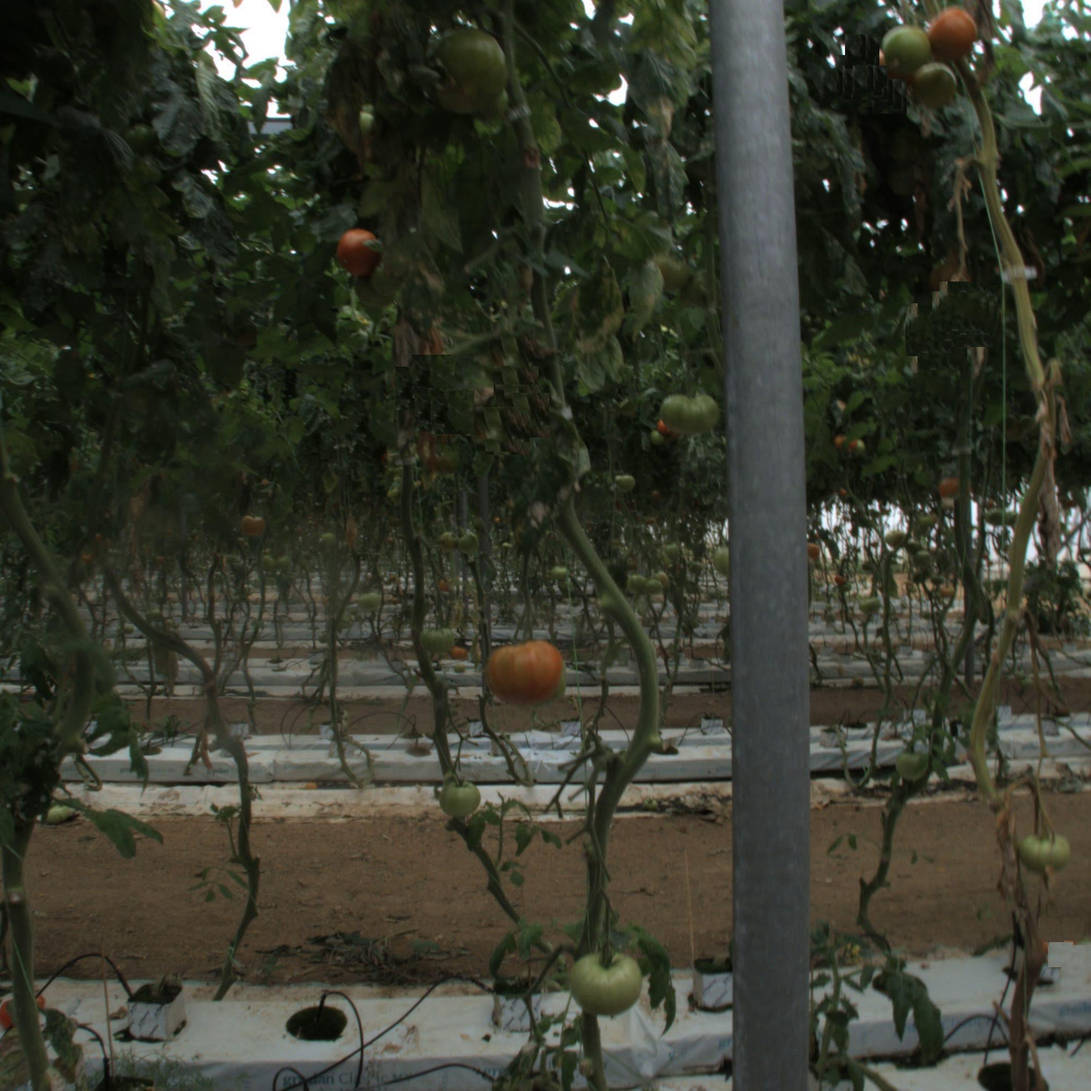fully-ripe: (484, 633, 561, 710), (336, 230, 384, 278)
semi-ripe: (925, 9, 978, 62)
unripe: (423, 26, 511, 113), (568, 941, 645, 1018), (661, 384, 721, 444), (1021, 822, 1074, 876), (882, 25, 932, 75), (912, 64, 960, 112), (437, 775, 482, 820)
